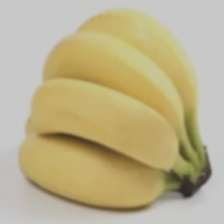banana: (25, 20, 180, 174)
